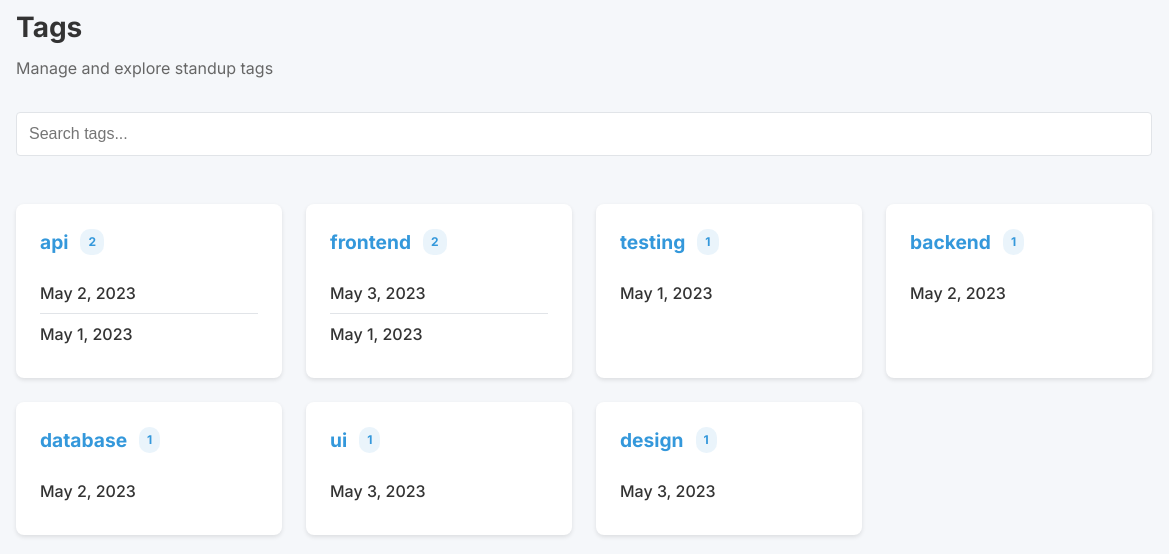
Test: TagsPage Component › filters tags based on search input
The image size is (1169, 554).
Note: Type in search input
In the field with placeholder "Search tags...": (584, 134) [16,112,1152,156], type "api"
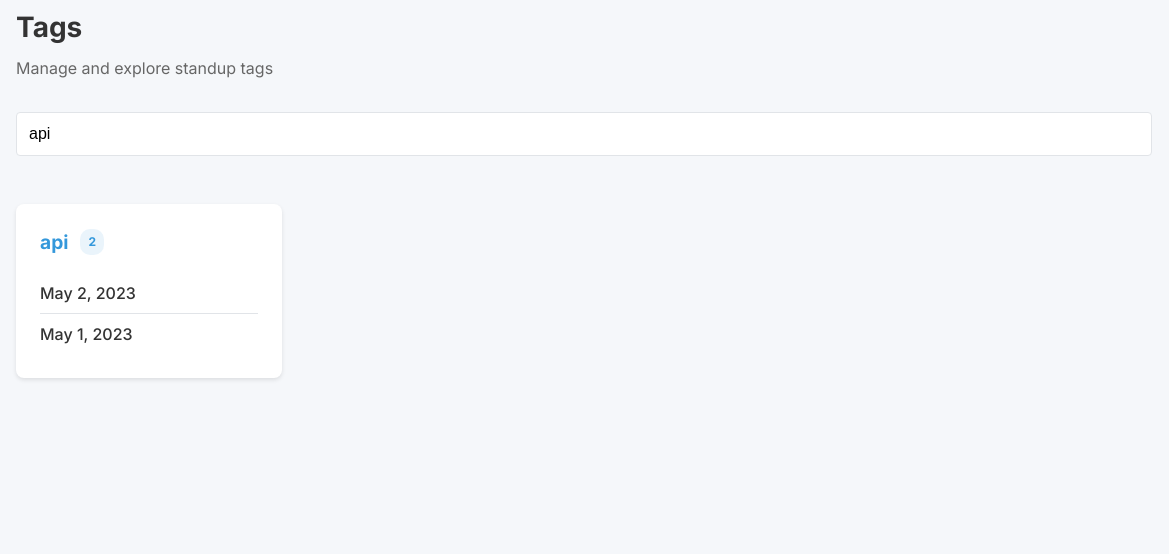
expect the heading "api 2" is shown: met, box [40,229,104,255]
expect the heading "testing" is gone: met
expect the heading "frontend" is gone: met
